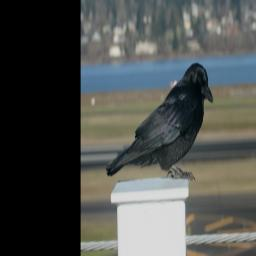Crow: (105, 61, 214, 180)
